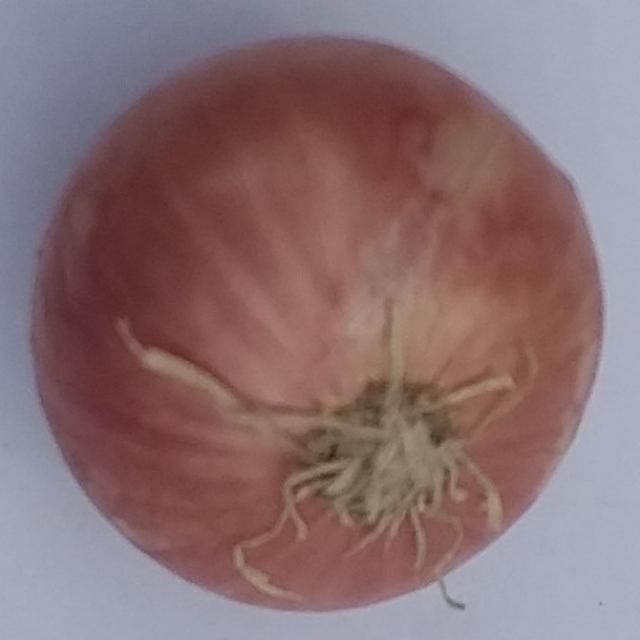onion: (29, 28, 608, 615)
